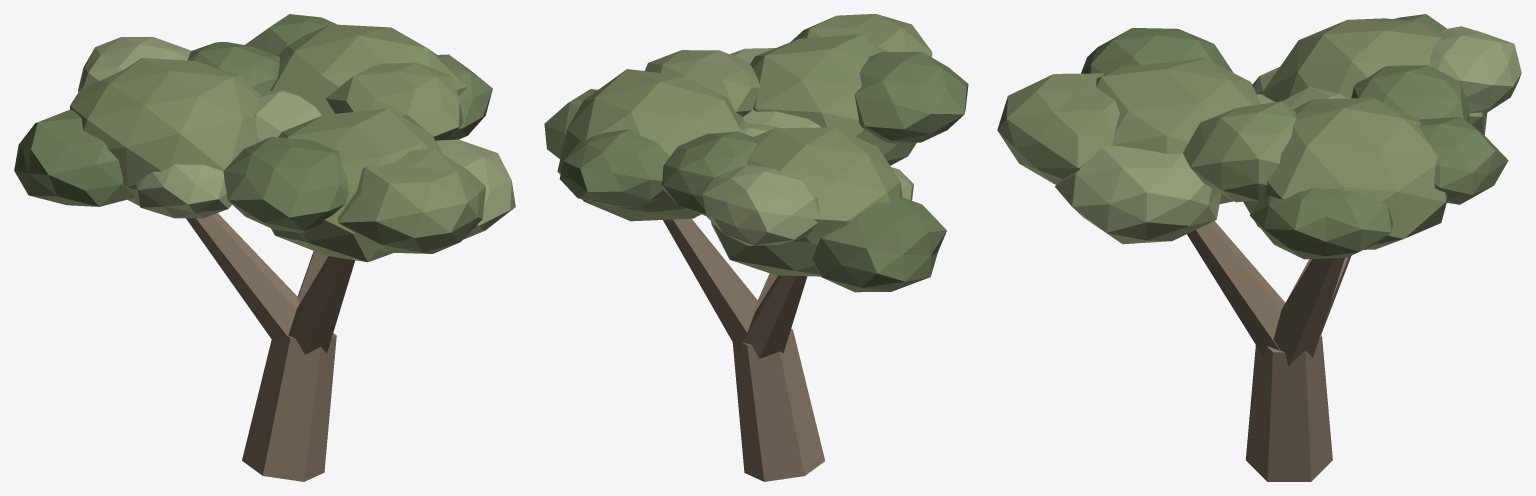
Rendered from zeytin-yasli.glb.
The picture shows the model from 3 angles, left to right: view 1: azimuth 30°, elevation 25°; view 2: azimuth 150°, elevation 25°; view 3: azimuth 270°, elevation 25°; orthographic projection. The views are drawn at different scales.
Parts seen in each view (by area): view 1: zeytin1, zeytin3, kabuk, zeytin2; view 2: zeytin1, zeytin3, kabuk, zeytin2; view 3: zeytin1, zeytin3, kabuk, zeytin2.
Boxes of the visible parts, x1,y1,x2,y2 form: zeytin1: (70, 24, 485, 262); zeytin3: (14, 14, 492, 232); kabuk: (186, 213, 354, 481); zeytin2: (78, 37, 515, 239); zeytin1: (557, 14, 932, 276); zeytin3: (544, 52, 968, 292); kabuk: (663, 218, 824, 481); zeytin2: (702, 48, 913, 245); zeytin1: (997, 18, 1487, 249); zeytin3: (1081, 14, 1508, 259); kabuk: (1187, 221, 1351, 481); zeytin2: (1055, 26, 1521, 244).
Size of the model in its own units: 4.03 by 3.65 by 4.23.
